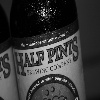beer: (10, 3, 85, 100)
